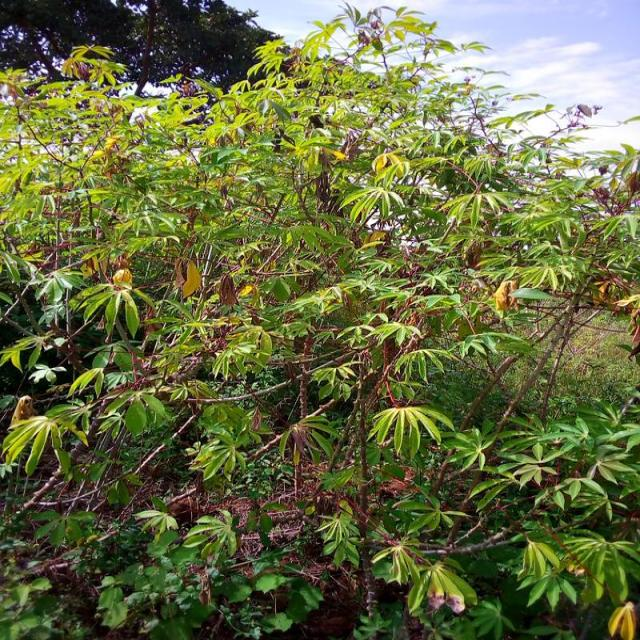cassava leaf: (1, 1, 638, 636), (368, 403, 450, 459)
